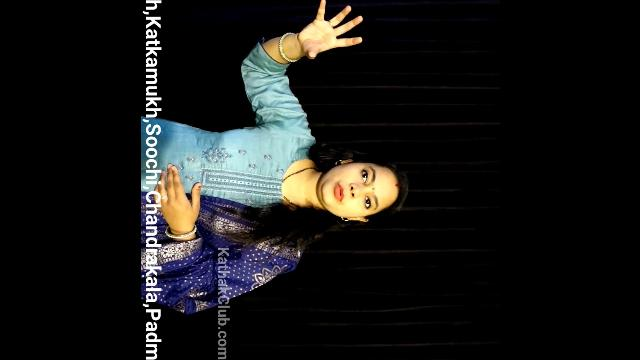padamkosh: (277, 0, 376, 84)
